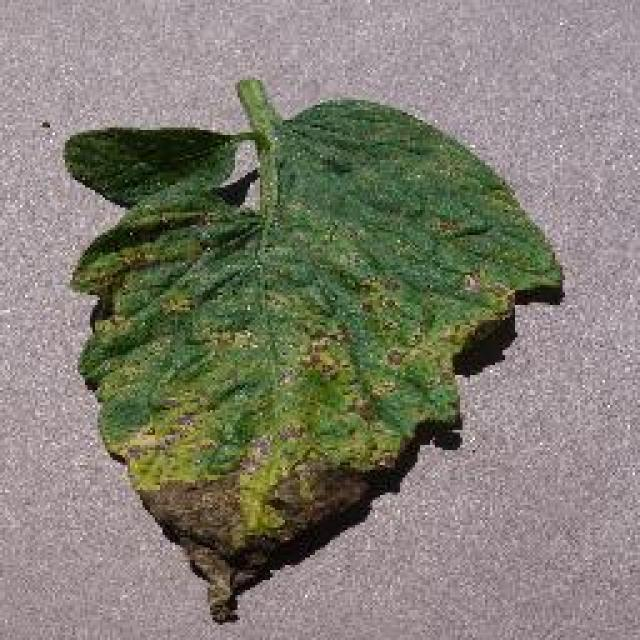Tomato___Septoria_leaf_spot: (62, 80, 558, 618)
